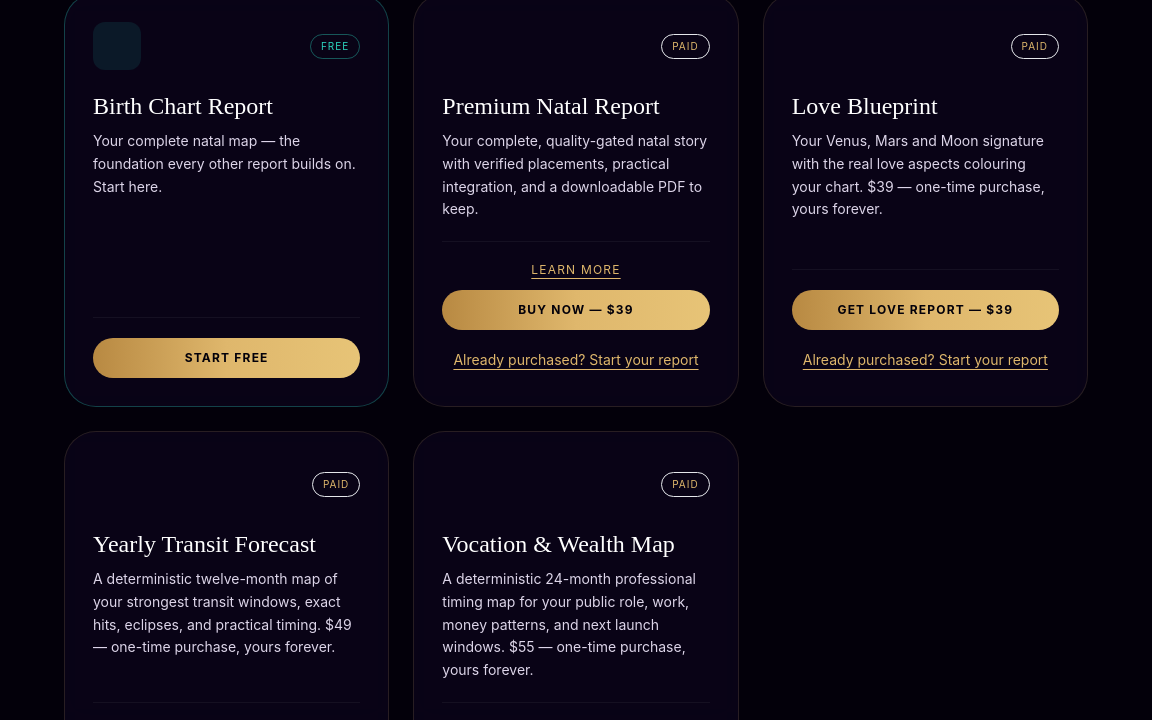
Test: stops safely when chart verification fails
(page scrolled)
Click the button "Already purchased? Start your report" below "Premium Natal Report". click: coordinates (576, 360)
box: x1=442 y1=342 x2=710 y2=378
(page scrolled)
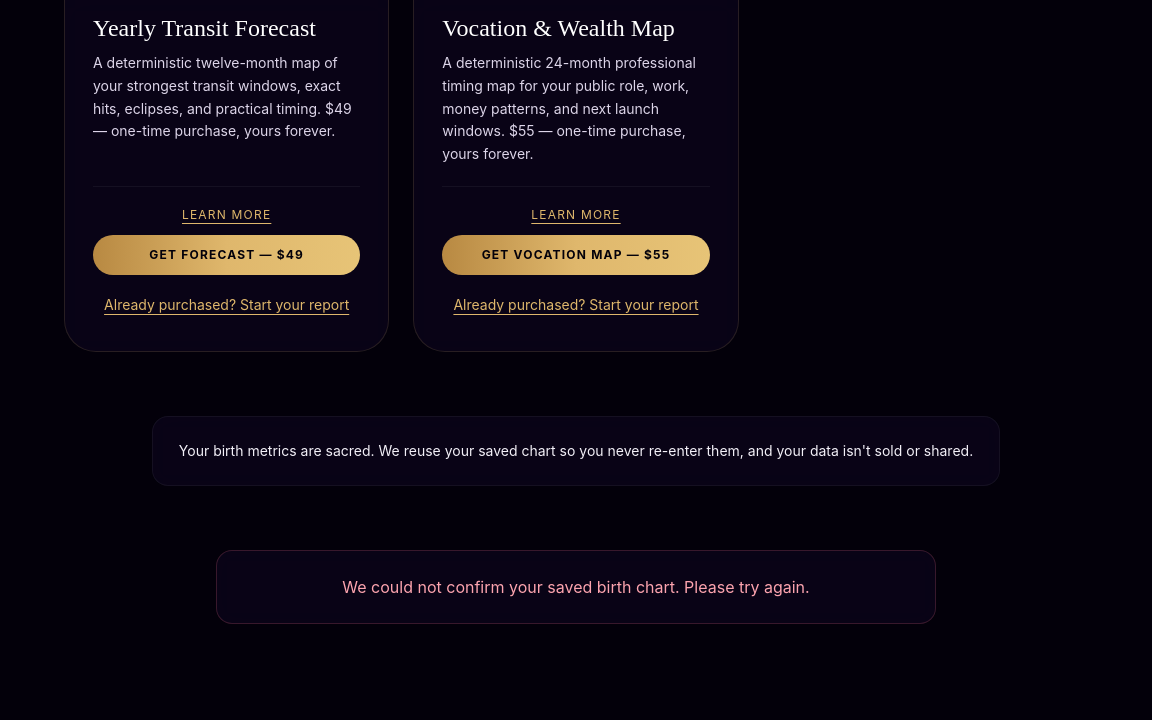
Check: the text "We could not confirm your saved birth chart. Please try again." is shown, box x1=216 y1=550 x2=936 y2=624
